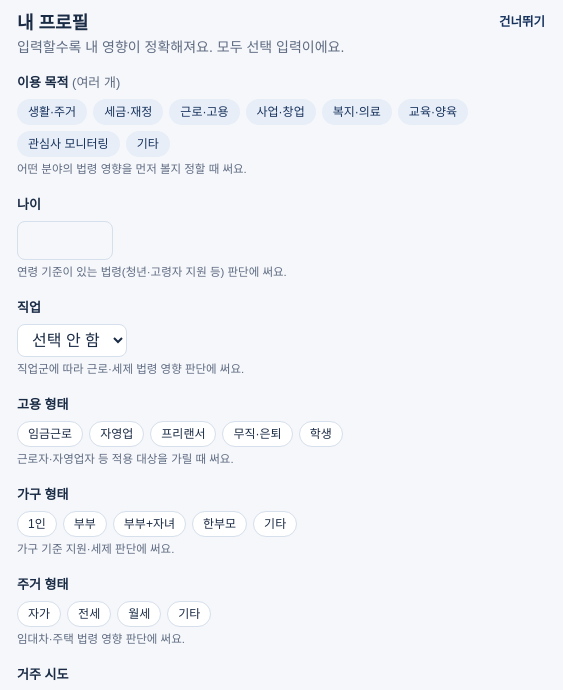
Scenario: ProfileScreen › 나이 범위 밖이면 보내지 않는다
Type "9" into the number field labelled "나이" at (65, 240), box [17,221,113,260]
(page scrolled)
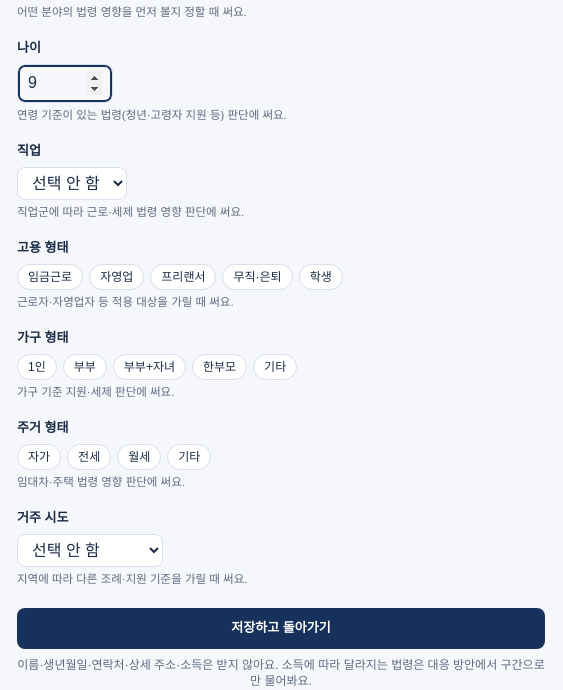
Click the button "저장하고 돌아가기" at (281, 629), box [17,608,545,649]
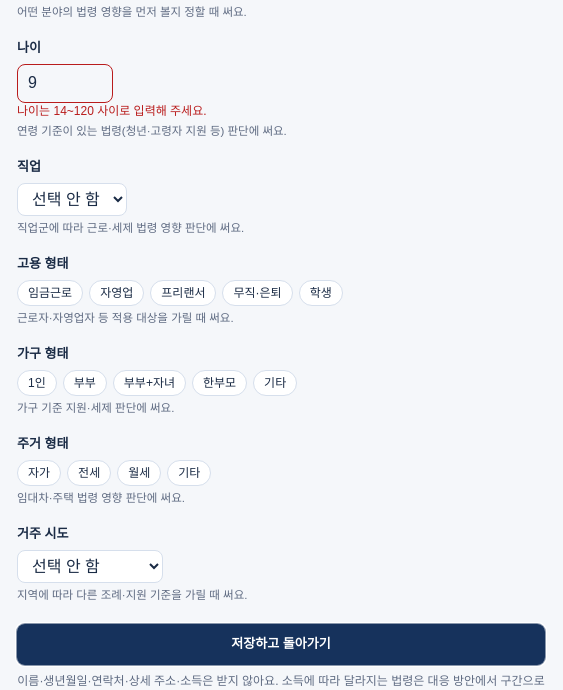
Now the text "나이는 14~120 사이로 입력해 주세요." is shown, box [17,104,206,118]
